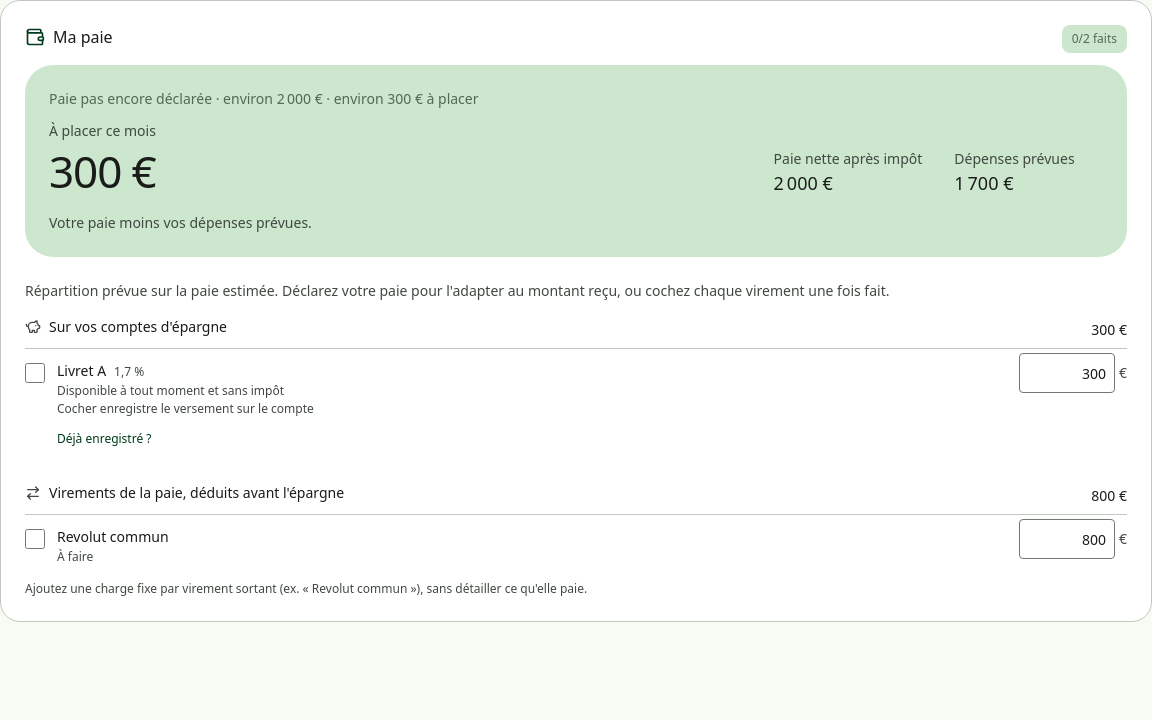
Scenario: PayChecklist › cliquer sur le nom du compte coche la ligne et enregistre le versement
Expected: the label "Livret A" is shown, 57,361 -> 106,380
Click the text "Livret A" at [101, 370], box 57,361 -> 144,380
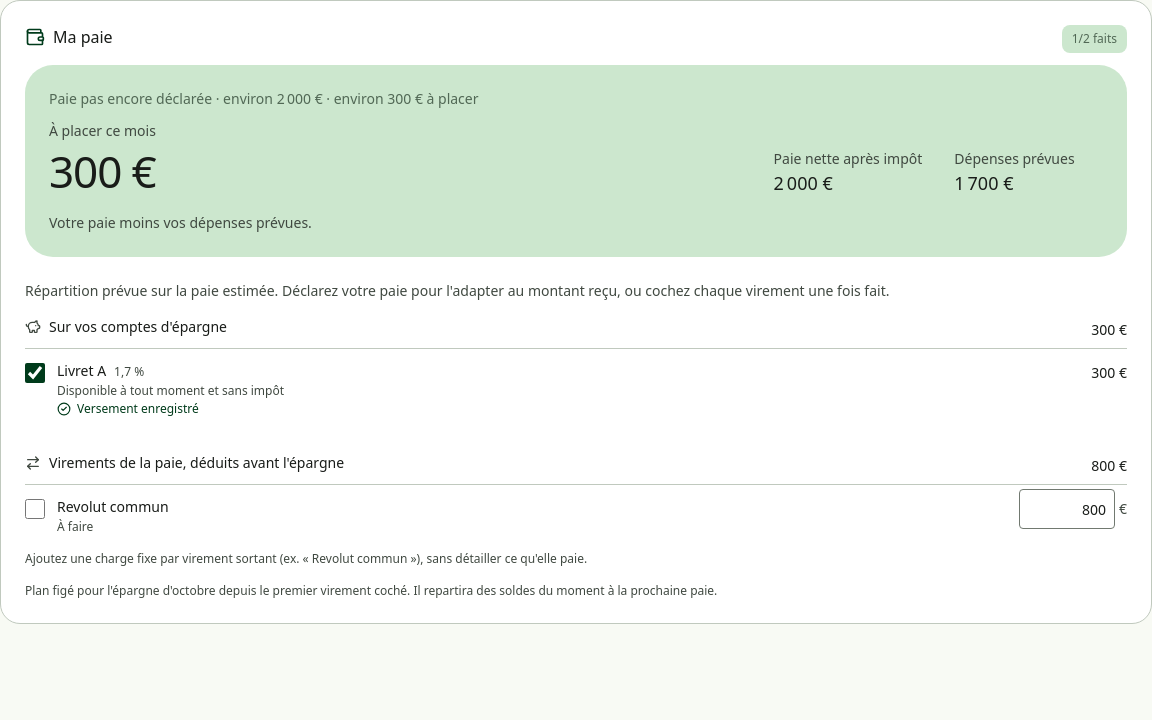
Expected: the checkbox labelled "Livret A" is checked, 25,363 -> 45,383
Expected: the text "Versement enregistré" is shown, 57,400 -> 199,417
Expected: the text "1/2 faits" is shown, 1062,25 -> 1127,53
